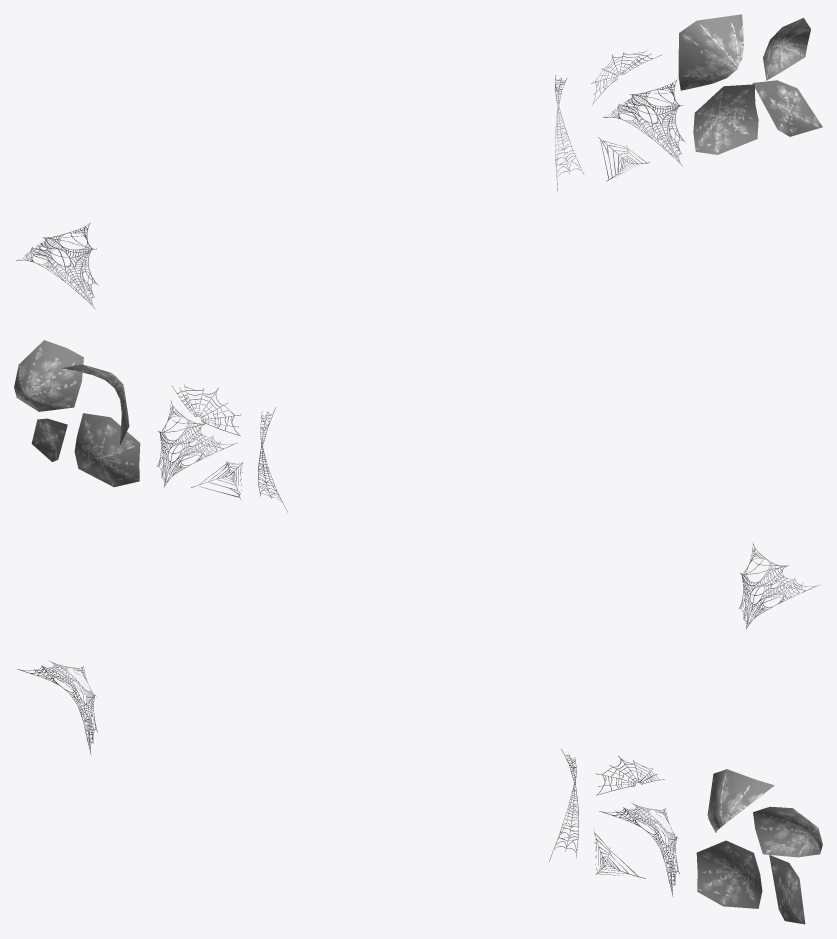
Rendered from mangnhen1.glb.
The picture shows the model from 3 angles, top to bottom: view 1: azimuth 30°, elevation 25°; view 2: azimuth 150°, elevation 25°; view 3: azimuth 330°, elevation 25°; orthographic projection.
Parts seen in each view (by area): view 1: Object_2, Object_3.001, Object_3; view 2: Object_2, Object_3.001, Object_3; view 3: Object_2, Object_3.001, Object_3.
Part boxes in pixels (x1=…): Object_2: x1=678, y1=14, x2=822, y2=154; Object_3.001: x1=554, y1=50, x2=685, y2=191; Object_3: x1=16, y1=223, x2=98, y2=309; Object_2: x1=14, y1=340, x2=140, y2=487; Object_3.001: x1=157, y1=384, x2=287, y2=512; Object_3: x1=739, y1=542, x2=819, y2=629; Object_2: x1=696, y1=769, x2=822, y2=924; Object_3.001: x1=549, y1=749, x2=679, y2=896; Object_3: x1=17, y1=660, x2=97, y2=754.
Size of the model in its own units: 385 by 58.15 by 24.08.
Materials: 4 (4 with a texture image).
